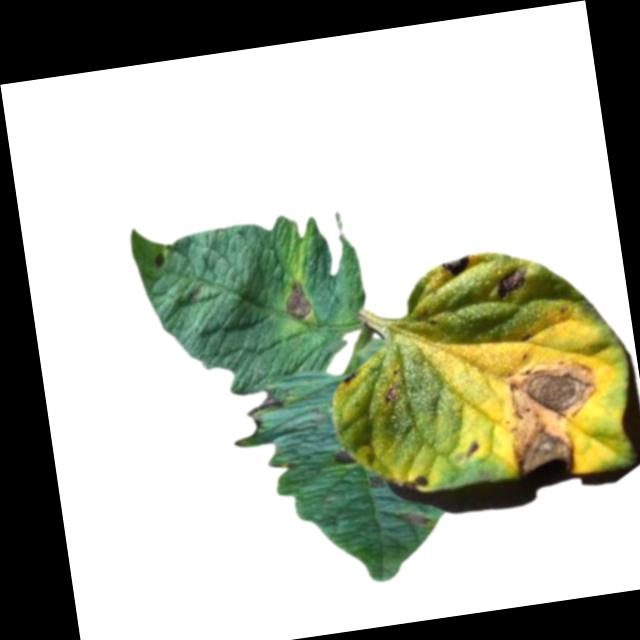Early_blight: (499, 352, 609, 478), (283, 280, 314, 324), (493, 266, 528, 300), (439, 251, 473, 282), (402, 472, 430, 491), (379, 383, 400, 404), (334, 448, 356, 466), (368, 471, 385, 488), (153, 251, 166, 269)
